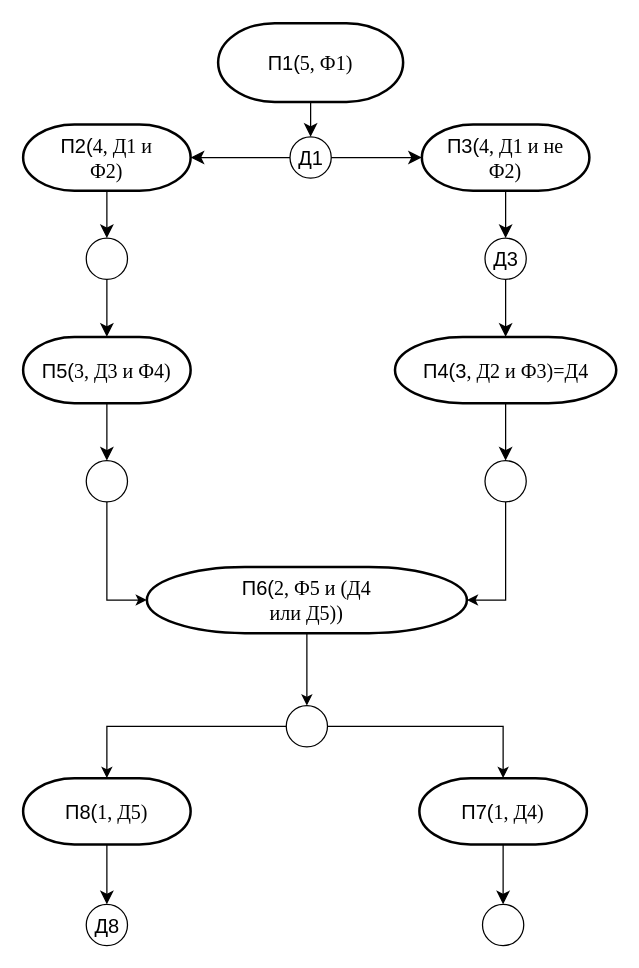
Image size: 639x968. Some labels were removed from this diagram. The shapes that lost their labels are listed below. From the top down, each one's box as (x1, y1, x2, y2) in pixels, then its label:
(85, 237, 128, 279): Д2
(85, 459, 128, 502): Д5
(484, 459, 526, 502): Д4
(285, 704, 328, 747): Д6
(481, 903, 524, 946): Д7
